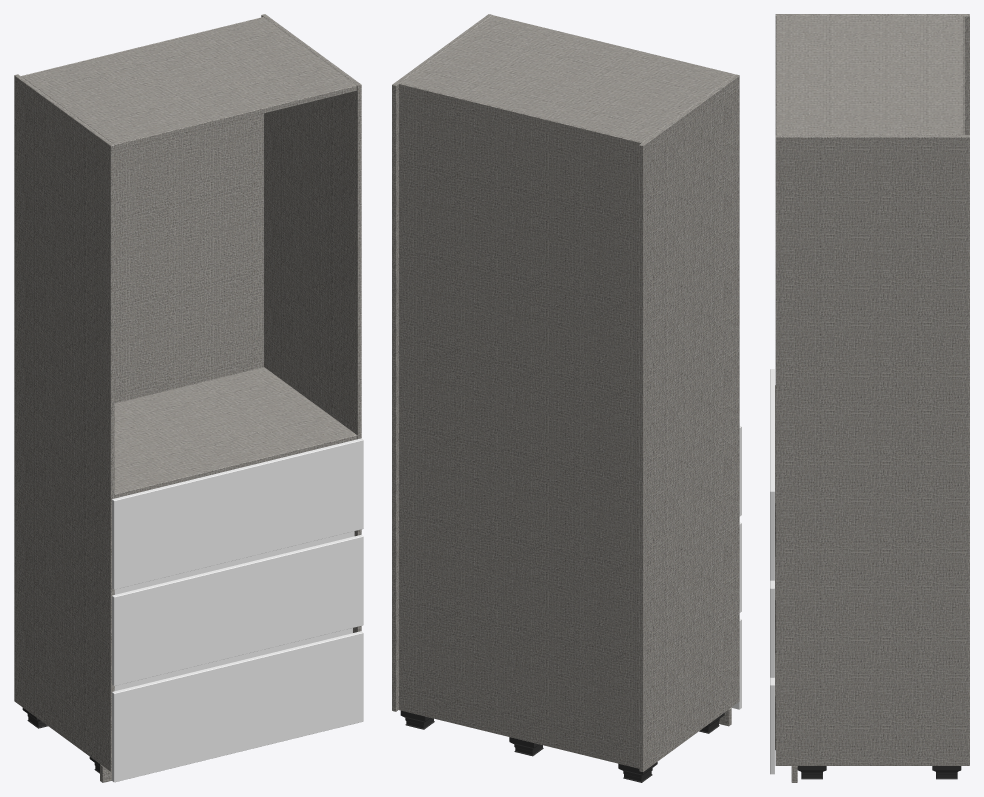
The model's file is cbib12167.gltf.
The picture shows the model from 3 angles, left to right: view 1: azimuth 30°, elevation 25°; view 2: azimuth 150°, elevation 25°; view 3: azimuth 270°, elevation 25°; orthographic projection.
Visible parts, largest first — view 1: CBIB12167; view 2: CBIB12167; view 3: CBIB12167.
Boxes of the visible parts, <box> form: CBIB12167: <box>14,14,363,782</box>; CBIB12167: <box>392,14,741,782</box>; CBIB12167: <box>770,14,969,782</box>.
Size of the model in its own units: 0.9 by 2.2 by 0.617.
Materials: 4 (2 with a texture image).
